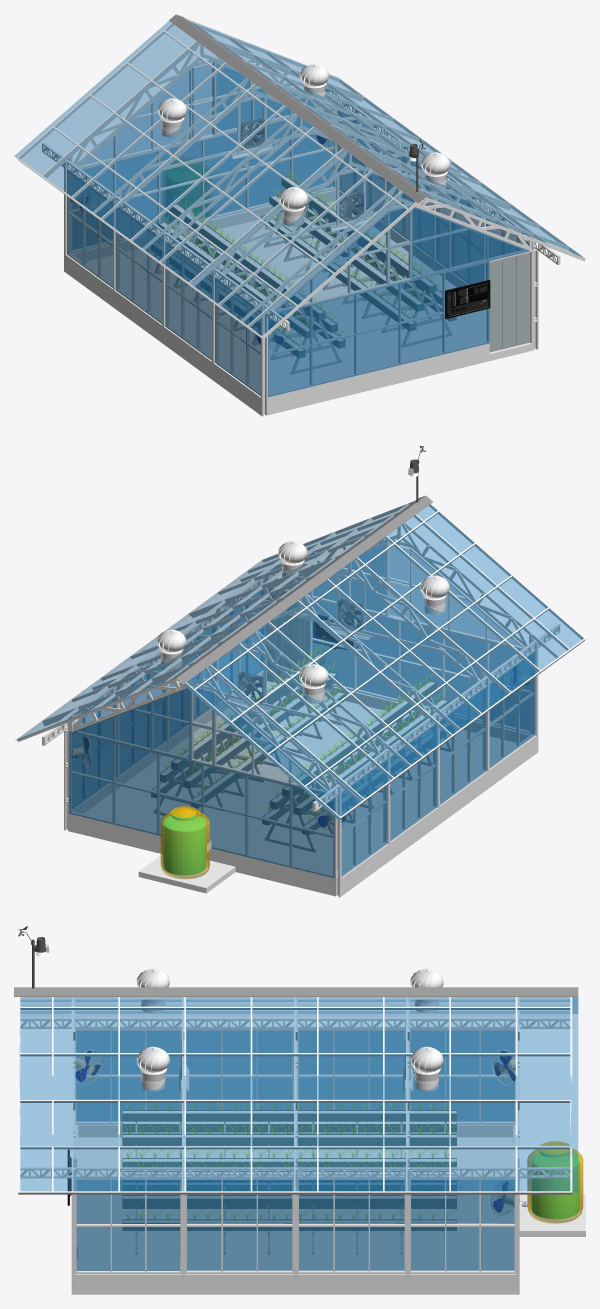
Rendered from GreenHouse.glb.
3 views of the same model, one above another, from view 1: azimuth 30°, elevation 25°; view 2: azimuth 150°, elevation 25°; view 3: azimuth 270°, elevation 25° (orthographic). The views are drawn at different scales.
Visible parts, largest first — view 1: Group436, Model, Group154, Group433, Group435, Group156, Group3, Group432, Group5, Group437, Group216, Group210 (+44 smaller); view 2: Group436, Model, Group3, Group433, Group435, Group5, Group432, Group154, Group156, Group437, Group216, Group210 (+39 smaller); view 3: Group433, Model, Group432, Group144, Group150, Group141, Group147, Group435, Group210, Group216, Group213, Group207 (+39 smaller).
Boxes of the visible parts, x1,y1,x2,y2 form: Group436: (14, 21, 415, 335); Model: (65, 189, 535, 415); Group154: (268, 261, 489, 397); Group433: (187, 19, 581, 256); Group435: (17, 23, 421, 339); Group156: (275, 206, 529, 312); Group3: (72, 109, 333, 249); Group432: (188, 20, 585, 261); Group5: (82, 64, 320, 164); Group437: (168, 14, 432, 203); Group216: (116, 208, 162, 323); Group210: (165, 243, 211, 360); Group436: (184, 504, 583, 819); Model: (66, 671, 536, 895); Group3: (69, 731, 334, 877); Group433: (15, 502, 412, 740); Group435: (184, 503, 585, 820); Group5: (73, 687, 326, 792); Group432: (17, 501, 413, 741); Group154: (312, 602, 529, 730); Group156: (282, 545, 519, 645); Group437: (169, 495, 432, 684); Group216: (390, 724, 436, 840); Group210: (440, 687, 486, 804); Group433: (19, 997, 577, 1192); Model: (75, 1124, 585, 1294); Group432: (18, 997, 572, 1194); Group144: (187, 1180, 292, 1270); Group150: (299, 1180, 404, 1270); Group141: (76, 1180, 180, 1270); Group147: (411, 1180, 514, 1270); Group435: (20, 997, 570, 1017); Group210: (187, 1031, 291, 1109); Group216: (299, 1031, 404, 1109); Group213: (411, 1031, 514, 1121); Group207: (77, 1031, 179, 1121).
Size of the model in its own units: 95.74 by 72.97 by 130.
Materials: 33 (1 with a texture image).
